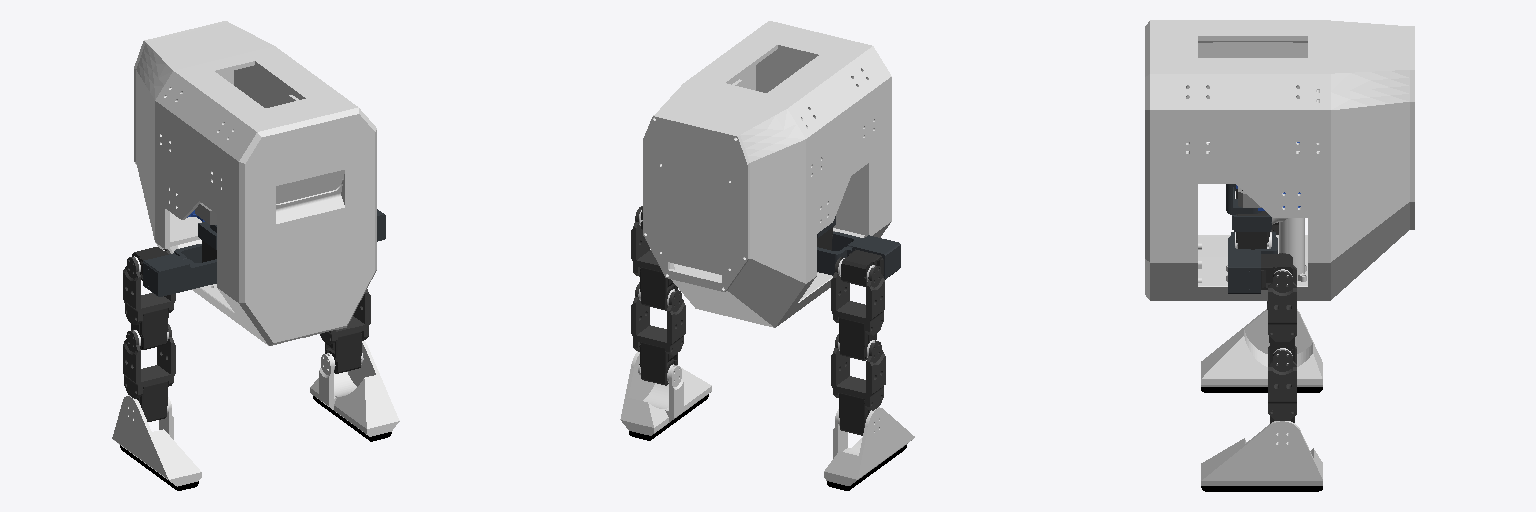
--- Render facts (derived) ---
The picture shows the robot from 3 angles, left to right: view 1: azimuth 30°, elevation 25°; view 2: azimuth 150°, elevation 25°; view 3: azimuth 270°, elevation 25°; orthographic projection.
Robot: my-robot — 11 links, 10 joints (10 revolute); root link bottom_frame; default pose: all joints at 0.
Links seen in each view (by area): view 1: bottom_frame, cushion_left, cushion_right, servo_holder_2_right, servo_holder_4_2, servo_holder_4, servo_holder_4_4, part_1; view 2: bottom_frame, cushion_left, cushion_right, servo_holder_4_4, servo_holder_4, servo_holder_4_2, servo_holder_2_right, servo_holder_4_3; view 3: bottom_frame, cushion_left, cushion_right, servo_holder_2_left, servo_holder_4_3, servo_holder_4_4, part_1_2.
Boxes of the visible links, x1=… form: bottom_frame: x1=134, y1=21, x2=376, y2=345; cushion_left: x1=310, y1=341, x2=399, y2=441; cushion_right: x1=112, y1=395, x2=201, y2=490; servo_holder_2_right: x1=132, y1=244, x2=216, y2=296; servo_holder_4_2: x1=123, y1=324, x2=175, y2=421; servo_holder_4: x1=123, y1=249, x2=175, y2=349; servo_holder_4_4: x1=320, y1=289, x2=370, y2=373; part_1: x1=198, y1=221, x2=216, y2=262; bottom_frame: x1=643, y1=21, x2=891, y2=327; cushion_left: x1=620, y1=351, x2=711, y2=440; cushion_right: x1=824, y1=407, x2=914, y2=490; servo_holder_4_4: x1=631, y1=282, x2=685, y2=385; servo_holder_4: x1=831, y1=257, x2=884, y2=360; servo_holder_4_2: x1=831, y1=334, x2=885, y2=435; servo_holder_2_right: x1=817, y1=232, x2=900, y2=286; servo_holder_4_3: x1=631, y1=206, x2=677, y2=310; bottom_frame: x1=1145, y1=20, x2=1414, y2=300; cushion_left: x1=1201, y1=421, x2=1322, y2=491; cushion_right: x1=1201, y1=309, x2=1322, y2=392; servo_holder_2_left: x1=1228, y1=232, x2=1292, y2=293; servo_holder_4_3: x1=1268, y1=253, x2=1296, y2=363; servo_holder_4_4: x1=1268, y1=346, x2=1296, y2=442; part_1_2: x1=1226, y1=184, x2=1271, y2=249.
Bounding box of the posed robot: 0.2872 × 0.2657 × 0.4273 m (x, y, z).
92 mesh visuals loaded from 25 distinct referenced files (25 binary STL).

URDF robot description (my-robot):
<?xml version="1.0" ?>
<!-- Generated using onshape-to-robot -->
<!-- Onshape https://cad.onshape.com/documents/d45957d307d6fbeba266d572/w/bd9f549c3008356ba09feb92/e/3a20e3144e899f6462cf0d2d -->
<robot name="my-robot">
  <!-- Link bottom_frame -->
  <link name="bottom_frame">
    <inertial>
      <origin xyz="-4.22758e-05 0.031606 0.133755" rpy="0 0 0"/>
      <mass value="1.98264"/>
      <inertia ixx="0.0231085" ixy="-1.50349e-05" ixz="-6.98111e-06" iyy="0.0159689" iyz="2.79408e-05" izz="0.0181058"/>
    </inertial>
    <!-- Part back_middle_connector_panel -->
    <visual>
      <origin xyz="1.38778e-17 0.0155347 0.132536" rpy="0 -0 1.47801e-16"/>
      <geometry>
        <mesh filename="package://assets/back_middle_connector_panel.stl"/>
      </geometry>
      <material name="back_middle_connector_panel_material">
        <color rgba="0.917647 0.917647 0.917647 1"/>
      </material>
    </visual>
    <collision>
      <origin xyz="1.38778e-17 0.0155347 0.132536" rpy="0 -0 1.47801e-16"/>
      <geometry>
        <mesh filename="package://assets/back_middle_connector_panel.stl"/>
      </geometry>
    </collision>
    <!-- Part top_right_panel_2 -->
    <visual>
      <origin xyz="0 -0.0931549 0.132536" rpy="0 -0 0"/>
      <geometry>
        <mesh filename="package://assets/top_right_panel_2.stl"/>
      </geometry>
      <material name="top_right_panel_2_material">
        <color rgba="0.917647 0.917647 0.917647 1"/>
      </material>
    </visual>
    <collision>
      <origin xyz="0 -0.0931549 0.132536" rpy="0 -0 0"/>
      <geometry>
        <mesh filename="package://assets/top_right_panel_2.stl"/>
      </geometry>
    </collision>
    <!-- Part top_left_panel -->
    <visual>
      <origin xyz="-1.38778e-17 -0.0931549 0.132536" rpy="0 -0 0"/>
      <geometry>
        <mesh filename="package://assets/top_left_panel.stl"/>
      </geometry>
      <material name="top_left_panel_material">
        <color rgba="0.917647 0.917647 0.917647 1"/>
      </material>
    </visual>
    <collision>
      <origin xyz="-1.38778e-17 -0.0931549 0.132536" rpy="0 -0 0"/>
      <geometry>
        <mesh filename="package://assets/top_left_panel.stl"/>
      </geometry>
    </collision>
    <!-- Part servo_housing_connector -->
    <visual>
      <origin xyz="0.0505 0.0285376 0.124733" rpy="0 -0 0"/>
      <geometry>
        <mesh filename="package://assets/servo_housing_connector.stl"/>
      </geometry>
      <material name="servo_housing_connector_material">
        <color rgba="0.917647 0.917647 0.917647 1"/>
      </material>
    </visual>
    <collision>
      <origin xyz="0.0505 0.0285376 0.124733" rpy="0 -0 0"/>
      <geometry>
        <mesh filename="package://assets/servo_housing_connector.stl"/>
      </geometry>
    </collision>
    <!-- Part front_panel -->
    <visual>
      <origin xyz="-1.38778e-17 -0.0931549 0.132536" rpy="0 -0 0"/>
      <geometry>
        <mesh filename="package://assets/front_panel.stl"/>
      </geometry>
      <material name="front_panel_material">
        <color rgba="0.917647 0.917647 0.917647 1"/>
      </material>
    </visual>
    <collision>
      <origin xyz="-1.38778e-17 -0.0931549 0.132536" rpy="0 -0 0"/>
      <geometry>
        <mesh filename="package://assets/front_panel.stl"/>
      </geometry>
    </collision>
    <!-- Part top_servo_housing -->
    <visual>
      <origin xyz="-0.0505 0.0285376 0.124733" rpy="3.14159 -0 3.14159"/>
      <geometry>
        <mesh filename="package://assets/top_servo_housing.stl"/>
      </geometry>
      <material name="top_servo_housing_material">
        <color rgba="0.231373 0.380392 0.705882 1"/>
      </material>
    </visual>
    <collision>
      <origin xyz="-0.0505 0.0285376 0.124733" rpy="3.14159 -0 3.14159"/>
      <geometry>
        <mesh filename="package://assets/top_servo_housing.stl"/>
      </geometry>
    </collision>
    <!-- Part intelrealsense_d435_multibody -->
    <visual>
      <origin xyz="-5.56425e-18 -0.0955775 0.170421" rpy="1.8326 -0 0"/>
      <geometry>
        <mesh filename="package://assets/intelrealsense_d435_multibody.stl"/>
      </geometry>
      <material name="intelrealsense_d435_multibody_material">
        <color rgba="0.917647 0.917647 0.917647 1"/>
      </material>
    </visual>
    <collision>
      <origin xyz="-5.56425e-18 -0.0955775 0.170421" rpy="1.8326 -0 0"/>
      <geometry>
        <mesh filename="package://assets/intelrealsense_d435_multibody.stl"/>
      </geometry>
    </collision>
    <!-- Part servo_holder_left -->
    <visual>
      <origin xyz="-0.0505 0.0285376 0.124733" rpy="3.14159 -9.86076e-32 3.14159"/>
      <geometry>
        <mesh filename="package://assets/servo_holder_left.stl"/>
      </geometry>
      <material name="servo_holder_left_material">
        <color rgba="0.647059 0.647059 0.647059 1"/>
      </material>
    </visual>
    <collision>
      <origin xyz="-0.0505 0.0285376 0.124733" rpy="3.14159 -9.86076e-32 3.14159"/>
      <geometry>
        <mesh filename="package://assets/servo_holder_left.stl"/>
      </geometry>
    </collision>
    <!-- Part bottom_frame -->
    <visual>
      <origin xyz="0 0 0" rpy="0 -0 0"/>
      <geometry>
        <mesh filename="package://assets/bottom_frame.stl"/>
      </geometry>
      <material name="bottom_frame_material">
        <color rgba="0.917647 0.917647 0.917647 1"/>
      </material>
    </visual>
    <collision>
      <origin xyz="0 0 0" rpy="0 -0 0"/>
      <geometry>
        <mesh filename="package://assets/bottom_frame.stl"/>
      </geometry>
    </collision>
    <!-- Part servo_holder_right -->
    <visual>
      <origin xyz="-0.0505 0.0285376 0.124733" rpy="3.14159 -9.86076e-32 3.14159"/>
      <geometry>
        <mesh filename="package://assets/servo_holder_right.stl"/>
      </geometry>
      <material name="servo_holder_right_material">
        <color rgba="0.647059 0.647059 0.647059 1"/>
      </material>
    </visual>
    <collision>
      <origin xyz="-0.0505 0.0285376 0.124733" rpy="3.14159 -9.86076e-32 3.14159"/>
      <geometry>
        <mesh filename="package://assets/servo_holder_right.stl"/>
      </geometry>
    </collision>
    <!-- Part composant4 -->
    <visual>
      <origin xyz="0.0505 0.0162713 0.124733" rpy="3.14159 -0 -1.5708"/>
      <geometry>
        <mesh filename="package://assets/composant4.stl"/>
      </geometry>
      <material name="composant4_material">
        <color rgba="0.952941 0.796078 0.486275 1"/>
      </material>
    </visual>
    <collision>
      <origin xyz="0.0505 0.0162713 0.124733" rpy="3.14159 -0 -1.5708"/>
      <geometry>
        <mesh filename="package://assets/composant4.stl"/>
      </geometry>
    </collision>
    <!-- Part vis_à_tête_tronconique_jis_b_1111___m3_x_4___h_acier_inoxydable_a2_standard_v1 -->
    <visual>
      <origin xyz="0.0505 0.0162713 0.124733" rpy="3.14159 -0 -1.5708"/>
      <geometry>
        <mesh filename="package://assets/vis_à_tête_tronconique_jis_b_1111___m3_x_4___h_acier_inoxydable_a2_standard_v1.stl"/>
      </geometry>
      <material name="vis_à_tête_tronconique_jis_b_1111___m3_x_4___h_acier_inoxydable_a2_standard_v1_material">
        <color rgba="0.796078 0.796078 0.796078 1"/>
      </material>
    </visual>
    <collision>
      <origin xyz="0.0505 0.0162713 0.124733" rpy="3.14159 -0 -1.5708"/>
      <geometry>
        <mesh filename="package://assets/vis_à_tête_tronconique_jis_b_1111___m3_x_4___h_acier_inoxydable_a2_standard_v1.stl"/>
      </geometry>
    </collision>
    <!-- Part vis -->
    <visual>
      <origin xyz="0.0505 0.0162713 0.124733" rpy="3.14159 -0 -1.5708"/>
      <geometry>
        <mesh filename="package://assets/vis.stl"/>
      </geometry>
      <material name="vis_material">
        <color rgba="0.0980392 0.0980392 0.0980392 1"/>
      </material>
    </visual>
    <collision>
      <origin xyz="0.0505 0.0162713 0.124733" rpy="3.14159 -0 -1.5708"/>
      <geometry>
        <mesh filename="package://assets/vis.stl"/>
      </geometry>
    </collision>
    <!-- Part composant3 -->
    <visual>
      <origin xyz="0.0505 0.0162713 0.124733" rpy="3.14159 -0 -1.5708"/>
      <geometry>
        <mesh filename="package://assets/composant3.stl"/>
      </geometry>
      <material name="composant3_material">
        <color rgba="0.960784 0.960784 0.964706 1"/>
      </material>
    </visual>
    <collision>
      <origin xyz="0.0505 0.0162713 0.124733" rpy="3.14159 -0 -1.5708"/>
      <geometry>
        <mesh filename="package://assets/composant3.stl"/>
      </geometry>
    </collision>
    <!-- Part vis_1 -->
    <visual>
      <origin xyz="0.0505 0.0162713 0.124733" rpy="3.14159 -0 -1.5708"/>
      <geometry>
        <mesh filename="package://assets/vis_1.stl"/>
      </geometry>
      <material name="vis_1_material">
        <color rgba="0.0980392 0.0980392 0.0980392 1"/>
      </material>
    </visual>
    <collision>
      <origin xyz="0.0505 0.0162713 0.124733" rpy="3.14159 -0 -1.5708"/>
      <geometry>
        <mesh filename="package://assets/vis_1.stl"/>
      </geometry>
    </collision>
    <!-- Part composant2 -->
    <visual>
      <origin xyz="0.0505 0.0162713 0.124733" rpy="3.14159 -0 -1.5708"/>
      <geometry>
        <mesh filename="package://assets/composant2.stl"/>
      </geometry>
      <material name="composant2_material">
        <color rgba="0.960784 0.960784 0.964706 1"/>
      </material>
    </visual>
    <collision>
      <origin xyz="0.0505 0.0162713 0.124733" rpy="3.14159 -0 -1.5708"/>
      <geometry>
        <mesh filename="package://assets/composant2.stl"/>
      </geometry>
    </collision>
    <!-- Part servo_motor_sts3215_v10 -->
    <visual>
      <origin xyz="0.0505 0.0162713 0.124733" rpy="3.14159 -0 -1.5708"/>
      <geometry>
        <mesh filename="package://assets/servo_motor_sts3215_v10.stl"/>
      </geometry>
      <material name="servo_motor_sts3215_v10_material">
        <color rgba="0.247059 0.247059 0.247059 1"/>
      </material>
    </visual>
    <collision>
      <origin xyz="0.0505 0.0162713 0.124733" rpy="3.14159 -0 -1.5708"/>
      <geometry>
        <mesh filename="package://assets/servo_motor_sts3215_v10.stl"/>
      </geometry>
    </collision>
    <!-- Part composant4_2 -->
    <visual>
      <origin xyz="-0.0505 0.0162713 0.124733" rpy="3.14159 -0 -1.5708"/>
      <geometry>
        <mesh filename="package://assets/composant4.stl"/>
      </geometry>
      <material name="composant4_2_material">
        <color rgba="0.952941 0.796078 0.486275 1"/>
      </material>
    </visual>
    <collision>
      <origin xyz="-0.0505 0.0162713 0.124733" rpy="3.14159 -0 -1.5708"/>
      <geometry>
        <mesh filename="package://assets/composant4.stl"/>
      </geometry>
    </collision>
    <!-- Part vis_à_tête_tronconique_jis_b_1111___m3_x_4___h_acier_inoxydable_a2_standard_v1_2 -->
    <visual>
      <origin xyz="-0.0505 0.0162713 0.124733" rpy="3.14159 -0 -1.5708"/>
      <geometry>
        <mesh filename="package://assets/vis_à_tête_tronconique_jis_b_1111___m3_x_4___h_acier_inoxydable_a2_standard_v1.stl"/>
      </geometry>
      <material name="vis_à_tête_tronconique_jis_b_1111___m3_x_4___h_acier_inoxydable_a2_standard_v1_2_material">
        <color rgba="0.796078 0.796078 0.796078 1"/>
      </material>
    </visual>
    <collision>
      <origin xyz="-0.0505 0.0162713 0.124733" rpy="3.14159 -0 -1.5708"/>
      <geometry>
        <mesh filename="package://assets/vis_à_tête_tronconique_jis_b_1111___m3_x_4___h_acier_inoxydable_a2_standard_v1.stl"/>
      </geometry>
    </collision>
    <!-- Part vis_2 -->
    <visual>
      <origin xyz="-0.0505 0.0162713 0.124733" rpy="3.14159 -0 -1.5708"/>
      <geometry>
        <mesh filename="package://assets/vis.stl"/>
      </geometry>
      <material name="vis_2_material">
        <color rgba="0.0980392 0.0980392 0.0980392 1"/>
      </material>
    </visual>
    <collision>
      <origin xyz="-0.0505 0.0162713 0.124733" rpy="3.14159 -0 -1.5708"/>
      <geometry>
        <mesh filename="package://assets/vis.stl"/>
      </geometry>
    </collision>
    <!-- Part composant3_2 -->
    <visual>
      <origin xyz="-0.0505 0.0162713 0.124733" rpy="3.14159 -0 -1.5708"/>
      <geometry>
        <mesh filename="package://assets/composant3.stl"/>
      </geometry>
      <material name="composant3_2_material">
        <color rgba="0.960784 0.960784 0.964706 1"/>
      </material>
    </visual>
    <collision>
      <origin xyz="-0.0505 0.0162713 0.124733" rpy="3.14159 -0 -1.5708"/>
      <geometry>
        <mesh filename="package://assets/composant3.stl"/>
      </geometry>
    </collision>
    <!-- Part vis_1_2 -->
    <visual>
      <origin xyz="-0.0505 0.0162713 0.124733" rpy="3.14159 -0 -1.5708"/>
      <geometry>
        <mesh filename="package://assets/vis_1.stl"/>
      </geometry>
      <material name="vis_1_2_material">
        <color rgba="0.0980392 0.0980392 0.0980392 1"/>
      </material>
    </visual>
    <collision>
      <origin xyz="-0.0505 0.0162713 0.124733" rpy="3.14159 -0 -1.5708"/>
      <geometry>
        <mesh filename="package://assets/vis_1.stl"/>
      </geometry>
    </collision>
    <!-- Part composant2_2 -->
    <visual>
      <origin xyz="-0.0505 0.0162713 0.124733" rpy="3.14159 -0 -1.5708"/>
      <geometry>
        <mesh filename="package://assets/composant2.stl"/>
      </geometry>
      <material name="composant2_2_material">
        <color rgba="0.960784 0.960784 0.964706 1"/>
      </material>
    </visual>
    <collision>
      <origin xyz="-0.0505 0.0162713 0.124733" rpy="3.14159 -0 -1.5708"/>
      <geometry>
        <mesh filename="package://assets/composant2.stl"/>
      </geometry>
    </collision>
    <!-- Part servo_motor_sts3215_v10_2 -->
    <visual>
      <origin xyz="-0.0505 0.0162713 0.124733" rpy="3.14159 -0 -1.5708"/>
      <geometry>
        <mesh filename="package://assets/servo_motor_sts3215_v10.stl"/>
      </geometry>
      <material name="servo_motor_sts3215_v10_2_material">
        <color rgba="0.247059 0.247059 0.247059 1"/>
      </material>
    </visual>
    <collision>
      <origin xyz="-0.0505 0.0162713 0.124733" rpy="3.14159 -0 -1.5708"/>
      <geometry>
        <mesh filename="package://assets/servo_motor_sts3215_v10.stl"/>
      </geometry>
    </collision>
  </link>
  <!-- Link part_1 -->
  <link name="part_1">
    <inertial>
      <origin xyz="0.00346141 -1.8868e-08 0.0544996" rpy="0 0 0"/>
      <mass value="0.0633736"/>
      <inertia ixx="4.16786e-05" ixy="1.75025e-11" ixz="9.10103e-06" iyy="4.826e-05" iyz="-7.87076e-12" izz="1.32807e-05"/>
    </inertial>
    <!-- Part part_1 -->
    <visual>
      <origin xyz="4.33681e-19 0 0" rpy="3.14159 3.26186e-36 -4.9299e-32"/>
      <geometry>
        <mesh filename="package://assets/part_1.stl"/>
      </geometry>
      <material name="part_1_material">
        <color rgba="0.262745 0.282353 0.301961 1"/>
      </material>
    </visual>
    <collision>
      <origin xyz="4.33681e-19 0 0" rpy="3.14159 3.26186e-36 -4.9299e-32"/>
      <geometry>
        <mesh filename="package://assets/part_1.stl"/>
      </geometry>
    </collision>
    <!-- Part composant4_3 -->
    <visual>
      <origin xyz="4.33681e-18 6.93889e-18 0.0684" rpy="-1.88738e-15 -1.5708 0"/>
      <geometry>
        <mesh filename="package://assets/composant4.stl"/>
      </geometry>
      <material name="composant4_3_material">
        <color rgba="0.952941 0.796078 0.486275 1"/>
      </material>
    </visual>
    <collision>
      <origin xyz="4.33681e-18 6.93889e-18 0.0684" rpy="-1.88738e-15 -1.5708 0"/>
      <geometry>
        <mesh filename="package://assets/composant4.stl"/>
      </geometry>
    </collision>
    <!-- Part vis_à_tête_tronconique_jis_b_1111___m3_x_4___h_acier_inoxydable_a2_standard_v1_3 -->
    <visual>
      <origin xyz="4.33681e-18 6.93889e-18 0.0684" rpy="-1.88738e-15 -1.5708 0"/>
      <geometry>
        <mesh filename="package://assets/vis_à_tête_tronconique_jis_b_1111___m3_x_4___h_acier_inoxydable_a2_standard_v1.stl"/>
      </geometry>
      <material name="vis_à_tête_tronconique_jis_b_1111___m3_x_4___h_acier_inoxydable_a2_standard_v1_3_material">
        <color rgba="0.796078 0.796078 0.796078 1"/>
      </material>
    </visual>
    <collision>
      <origin xyz="4.33681e-18 6.93889e-18 0.0684" rpy="-1.88738e-15 -1.5708 0"/>
      <geometry>
        <mesh filename="package://assets/vis_à_tête_tronconique_jis_b_1111___m3_x_4___h_acier_inoxydable_a2_standard_v1.stl"/>
      </geometry>
    </collision>
    <!-- Part vis_3 -->
    <visual>
      <origin xyz="4.33681e-18 6.93889e-18 0.0684" rpy="-1.88738e-15 -1.5708 0"/>
      <geometry>
        <mesh filename="package://assets/vis.stl"/>
      </geometry>
      <material name="vis_3_material">
        <color rgba="0.0980392 0.0980392 0.0980392 1"/>
      </material>
    </visual>
    <collision>
      <origin xyz="4.33681e-18 6.93889e-18 0.0684" rpy="-1.88738e-15 -1.5708 0"/>
      <geometry>
        <mesh filename="package://assets/vis.stl"/>
      </geometry>
    </collision>
    <!-- Part composant3_3 -->
    <visual>
      <origin xyz="4.33681e-18 6.93889e-18 0.0684" rpy="-1.88738e-15 -1.5708 0"/>
      <geometry>
        <mesh filename="package://assets/composant3.stl"/>
      </geometry>
      <material name="composant3_3_material">
        <color rgba="0.960784 0.960784 0.964706 1"/>
      </material>
    </visual>
    <collision>
      <origin xyz="4.33681e-18 6.93889e-18 0.0684" rpy="-1.88738e-15 -1.5708 0"/>
      <geometry>
        <mesh filename="package://assets/composant3.stl"/>
      </geometry>
    </collision>
    <!-- Part vis_1_3 -->
    <visual>
      <origin xyz="4.33681e-18 6.93889e-18 0.0684" rpy="-1.88738e-15 -1.5708 0"/>
      <geometry>
        <mesh filename="package://assets/vis_1.stl"/>
      </geometry>
      <material name="vis_1_3_material">
        <color rgba="0.0980392 0.0980392 0.0980392 1"/>
      </material>
    </visual>
    <collision>
      <origin xyz="4.33681e-18 6.93889e-18 0.0684" rpy="-1.88738e-15 -1.5708 0"/>
      <geometry>
        <mesh filename="package://assets/vis_1.stl"/>
      </geometry>
    </collision>
    <!-- Part composant2_3 -->
    <visual>
      <origin xyz="4.33681e-18 6.93889e-18 0.0684" rpy="-1.88738e-15 -1.5708 0"/>
      <geometry>
        <mesh filename="package://assets/composant2.stl"/>
      </geometry>
      <material name="composant2_3_material">
        <color rgba="0.960784 0.960784 0.964706 1"/>
      </material>
    </visual>
    <collision>
      <origin xyz="4.33681e-18 6.93889e-18 0.0684" rpy="-1.88738e-15 -1.5708 0"/>
      <geometry>
        <mesh filename="package://assets/composant2.stl"/>
      </geometry>
    </collision>
    <!-- Part servo_motor_sts3215_v10_3 -->
    <visual>
      <origin xyz="4.33681e-18 6.93889e-18 0.0684" rpy="-1.88738e-15 -1.5708 0"/>
      <geometry>
        <mesh filename="package://assets/servo_motor_sts3215_v10.stl"/>
      </geometry>
      <material name="servo_motor_sts3215_v10_3_material">
        <color rgba="0.247059 0.247059 0.247059 1"/>
      </material>
    </visual>
    <collision>
      <origin xyz="4.33681e-18 6.93889e-18 0.0684" rpy="-1.88738e-15 -1.5708 0"/>
      <geometry>
        <mesh filename="package://assets/servo_motor_sts3215_v10.stl"/>
      </geometry>
    </collision>
  </link>
  <!-- Link servo_holder_2_right -->
  <link name="servo_holder_2_right">
    <inertial>
      <origin xyz="-0.0581183 0.000675022 0.0200448" rpy="0 0 0"/>
      <mass value="0.102324"/>
      <inertia ixx="4.10674e-05" ixy="-1.76403e-06" ixz="2.82895e-06" iyy="7.91302e-05" iyz="2.86127e-07" izz="5.08509e-05"/>
    </inertial>
    <!-- Part servo_holder_2_right -->
    <visual>
      <origin xyz="0.100812 -0.0182 0.0234473" rpy="1.5708 -0.104008 4.67811e-32"/>
      <geometry>
        <mesh filename="package://assets/servo_holder_2_right.stl"/>
      </geometry>
      <material name="servo_holder_2_right_material">
        <color rgba="0.262745 0.282353 0.301961 1"/>
      </material>
    </visual>
    <collision>
      <origin xyz="0.100812 -0.0182 0.0234473" rpy="1.5708 -0.104008 4.67811e-32"/>
      <geometry>
        <mesh filename="package://assets/servo_holder_2_right.stl"/>
      </geometry>
    </collision>
    <!-- Part composant4_4 -->
    <visual>
      <origin xyz="-0.0689457 1.59595e-16 0.0349006" rpy="3.14159 -1.5708 0"/>
      <geometry>
        <mesh filename="package://assets/composant4.stl"/>
      </geometry>
      <material name="composant4_4_material">
        <color rgba="0.952941 0.796078 0.486275 1"/>
      </material>
    </visual>
    <collision>
      <origin xyz="-0.0689457 1.59595e-16 0.0349006" rpy="3.14159 -1.5708 0"/>
      <geometry>
        <mesh filename="package://assets/composant4.stl"/>
      </geometry>
    </collision>
    <!-- Part vis_à_tête_tronconique_jis_b_1111___m3_x_4___h_acier_inoxydable_a2_standard_v1_4 -->
    <visual>
      <origin xyz="-0.0689457 1.59595e-16 0.0349006" rpy="3.14159 -1.5708 0"/>
      <geometry>
        <mesh filename="package://assets/vis_à_tête_tronconique_jis_b_1111___m3_x_4___h_acier_inoxydable_a2_standard_v1.stl"/>
      </geometry>
      <material name="vis_à_tête_tronconique_jis_b_1111___m3_x_4___h_acier_inoxydable_a2_standard_v1_4_material">
        <color rgba="0.796078 0.796078 0.796078 1"/>
      </material>
    </visual>
    <collision>
      <origin xyz="-0.0689457 1.59595e-16 0.0349006" rpy="3.14159 -1.5708 0"/>
      <geometry>
        <mesh filename="package://assets/vis_à_tête_tronconique_jis_b_1111___m3_x_4___h_acier_inoxydable_a2_standard_v1.stl"/>
      </geometry>
    </collision>
    <!-- Part vis_4 -->
    <visual>
      <origin xyz="-0.0689457 1.59595e-16 0.0349006" rpy="3.14159 -1.5708 0"/>
      <geometry>
        <mesh filename="package://assets/vis.stl"/>
      </geometry>
      <material name="vis_4_material">
        <color rgba="0.0980392 0.0980392 0.0980392 1"/>
      </material>
    </visual>
    <collision>
      <origin xyz="-0.0689457 1.59595e-16 0.0349006" rpy="3.14159 -1.5708 0"/>
      <geometry>
        <mesh filename="package://assets/vis.stl"/>
      </geometry>
    </collision>
    <!-- Part composant3_4 -->
    <visual>
      <origin xyz="-0.0689457 1.59595e-16 0.0349006" rpy="3.14159 -1.5708 0"/>
      <geometry>
        <mesh filename="package://assets/composant3.stl"/>
      </geometry>
      <material name="composant3_4_material">
        <color rgba="0.960784 0.960784 0.964706 1"/>
      </material>
    </visual>
    <collision>
      <origin xyz="-0.0689457 1.59595e-16 0.0349006" rpy="3.14159 -1.5708 0"/>
      <geometry>
        <mesh filename="package://assets/composant3.stl"/>
      </geometry>
    </collision>
    <!-- Part vis_1_4 -->
    <visual>
      <origin xyz="-0.0689457 1.59595e-16 0.0349006" rpy="3.14159 -1.5708 0"/>
      <geometry>
        <mesh filename="package://assets/vis_1.stl"/>
      </geometry>
      <material name="vis_1_4_material">
        <color rgba="0.0980392 0.0980392 0.0980392 1"/>
      </material>
    </visual>
    <collision>
      <origin xyz="-0.0689457 1.59595e-16 0.0349006" rpy="3.14159 -1.5708 0"/>
      <geometry>
        <mesh filename="package://assets/vis_1.stl"/>
      </geometry>
    </collision>
    <!-- Part composant2_4 -->
    <visual>
      <origin xyz="-0.0689457 1.59595e-16 0.0349006" rpy="3.14159 -1.5708 0"/>
      <geometry>
        <mesh filename="package://assets/composant2.stl"/>
      </geometry>
      <material name="composant2_4_material">
        <color rgba="0.960784 0.960784 0.964706 1"/>
      </material>
    </visual>
    <collision>
      <origin xyz="-0.0689457 1.59595e-16 0.0349006" rpy="3.14159 -1.5708 0"/>
      <geometry>
        <mesh filename="package://assets/composant2.stl"/>
      </geometry>
    </collision>
    <!-- Part servo_motor_sts3215_v10_4 -->
    <visual>
      <origin xyz="-0.0689457 1.59595e-16 0.0349006" rpy="3.14159 -1.5708 0"/>
      <geometry>
        <mesh filename="package://assets/servo_motor_sts3215_v10.stl"/>
      </geometry>
      <material name="servo_motor_sts3215_v10_4_material">
        <color rgba="0.247059 0.247059 0.247059 1"/>
      </material>
    </visual>
    <collision>
      <origin xyz="-0.0689457 1.59595e-16 0.0349006" rpy="3.14159 -1.5708 0"/>
      <geometry>
        <mesh filename="package://assets/servo_motor_sts3215_v10.stl"/>
      </geometry>
    </collision>
  </link>
  <!-- Link servo_holder_4 -->
  <link name="servo_holder_4">
    <inertial>
      <origin xyz="0.0559692 1.42113e-08 0.0177128" rpy="0 0 0"/>
      <mass value="0.0728745"/>
      <inertia ixx="1.98198e-05" ixy="-1.12362e-11" ixz="4.90018e-07" iyy="5.95513e-05" iyz="-1.0947e-11" izz="4.798e-05"/>
    </inertial>
    <!-- Part servo_holder_4 -->
    <visual>
      <origin xyz="6.93889e-18 0 0.0364" rpy="9.06201e-32 3.86891e-32 -2.93199e-31"/>
      <geometry>
        <mesh filename="package://assets/servo_holder_4.stl"/>
      </geometry>
      <material name="servo_holder_4_material">
        <color rgba="0.301961 0.301961 0.301961 1"/>
      </material>
    </visual>
    <collision>
      <origin xyz="6.93889e-18 0 0.0364" rpy="9.06201e-32 3.86891e-32 -2.93199e-31"/>
      <geometry>
        <mesh filename="package://assets/servo_holder_4.stl"/>
      </geometry>
    </collision>
    <!-- Part composant4_5 -->
    <visual>
      <origin xyz="0.0732925 6.93889e-18 0.0185244" rpy="3.14159 5.65575e-31 -7.7777e-31"/>
      <geometry>
        <mesh filename="package://assets/composant4.stl"/>
      </geometry>
      <material name="composant4_5_material">
        <color rgba="0.952941 0.796078 0.486275 1"/>
      </material>
    </visual>
    <collision>
      <origin xyz="0.0732925 6.93889e-18 0.0185244" rpy="3.14159 5.65575e-31 -7.7777e-31"/>
      <geometry>
        <mesh filename="package://assets/composant4.stl"/>
      </geometry>
    </collision>
    <!-- Part vis_à_tête_tronconique_jis_b_1111___m3_x_4___h_acier_inoxydable_a2_standard_v1_5 -->
    <visual>
      <origin xyz="0.0732925 6.93889e-18 0.0185244" rpy="3.14159 5.65575e-31 -7.7777e-31"/>
      <geometry>
        <mesh filename="package://assets/vis_à_tête_tronconique_jis_b_1111___m3_x_4___h_acier_inoxydable_a2_standard_v1.stl"/>
      </geometry>
      <material name="vis_à_tête_tronconique_jis_b_1111___m3_x_4___h_acier_inoxydable_a2_standard_v1_5_material">
        <color rgba="0.796078 0.796078 0.796078 1"/>
      </material>
    </visual>
    <collision>
      <origin xyz="0.0732925 6.93889e-18 0.0185244" rpy="3.14159 5.65575e-31 -7.7777e-31"/>
      <geometry>
        <mesh filename="package://assets/vis_à_tête_tronconique_jis_b_1111___m3_x_4___h_acier_inoxydable_a2_standard_v1.stl"/>
      </geometry>
    </collision>
    <!-- Part vis_5 -->
    <visual>
      <origin xyz="0.0732925 6.93889e-18 0.0185244" rpy="3.14159 5.65575e-31 -7.7777e-31"/>
      <geometry>
        <mesh filename="package://assets/vis.stl"/>
      </geometry>
      <material name="vis_5_material">
        <color rgba="0.0980392 0.0980392 0.0980392 1"/>
      </material>
    </visual>
    <collision>
      <origin xyz="0.0732925 6.93889e-18 0.0185244" rpy="3.14159 5.65575e-31 -7.7777e-31"/>
      <geometry>
        <mesh filename="package://assets/vis.stl"/>
      </geometry>
    </collision>
    <!-- Part composant3_5 -->
    <visual>
      <origin xyz="0.0732925 6.93889e-18 0.0185244" rpy="3.14159 5.65575e-31 -7.7777e-31"/>
      <geometry>
        <mesh filename="package://assets/composant3.stl"/>
      </geometry>
      <material name="composant3_5_material">
        <color rgba="0.960784 0.960784 0.964706 1"/>
      </material>
    </visual>
    <collision>
      <origin xyz="0.0732925 6.93889e-18 0.0185244" rpy="3.14159 5.65575e-31 -7.7777e-31"/>
      <geometry>
        <mesh filename="package://assets/composant3.stl"/>
      </geometry>
    </collision>
    <!-- Part vis_1_5 -->
    <visual>
      <origin xyz="0.0732925 6.93889e-18 0.0185244" rpy="3.14159 5.65575e-31 -7.7777e-31"/>
      <geometry>
        <mesh filename="package://assets/vis_1.stl"/>
      </geometry>
      <material name="vis_1_5_material">
        <color rgba="0.0980392 0.0980392 0.0980392 1"/>
      </material>
    </visual>
    <collision>
      <origin xyz="0.0732925 6.93889e-18 0.0185244" rpy="3.14159 5.65575e-31 -7.7777e-31"/>
      <geometry>
        <mesh filename="package://assets/vis_1.stl"/>
      </geometry>
    </collision>
    <!-- Part composant2_5 -->
    <visual>
      <origin xyz="0.0732925 6.93889e-18 0.0185244" rpy="3.14159 5.65575e-31 -7.7777e-31"/>
      <geometry>
        <mesh filename="package://assets/composant2.stl"/>
      </geometry>
      <material name="composant2_5_material">
        <color rgba="0.960784 0.960784 0.964706 1"/>
      </material>
    </visual>
    <collision>
      <origin xyz="0.0732925 6.93889e-18 0.0185244" rpy="3.14159 5.65575e-31 -7.7777e-31"/>
      <geometry>
        <mesh filename="package://assets/composant2.stl"/>
      </geometry>
    </collision>
    <!-- Part servo_motor_sts3215_v10_5 -->
    <visual>
      <origin xyz="0.0732925 6.93889e-18 0.0185244" rpy="3.14159 5.65575e-31 -7.7777e-31"/>
      <geometry>
        <mesh filename="package://assets/servo_motor_sts3215_v10.stl"/>
      </geometry>
      <material name="servo_motor_sts3215_v10_5_material">
        <color rgba="0.247059 0.247059 0.247059 1"/>
      </material>
    </visual>
    <collision>
      <origin xyz="0.0732925 6.93889e-18 0.0185244" rpy="3.14159 5.65575e-31 -7.7777e-31"/>
      <geometry>
        <mesh filename="package://assets/servo_motor_sts3215_v10.stl"/>
      </geometry>
    </collision>
  </link>
  <!-- Link servo_holder_4_2 -->
  <link name="servo_holder_4_2">
    <inertial>
      <origin xyz="0.0559692 1.42113e-08 0.0177128" rpy="0 0 0"/>
      <mass value="0.0728745"/>
      <inertia ixx="1.98198e-05" ixy="-1.12362e-11" ixz="4.90018e-07" iyy="5.95513e-05" iyz="-1.0947e-11" izz="4.798e-05"/>
    </inertial>
    <!-- Part servo_holder_4_2 -->
    <visual>
      <origin xyz="3.46945e-18 0 0.0364" rpy="5.56809e-32 5.24827e-34 -8.67175e-33"/>
      <geometry>
        <mesh filename="package://assets/servo_holder_4.stl"/>
      </geometry>
      <material name="servo_holder_4_2_material">
        <color rgba="0.301961 0.301961 0.301961 1"/>
      </material>
    </visual>
    <collision>
      <origin xyz="3.46945e-18 0 0.0364" rpy="5.56809e-32 5.24827e-34 -8.67175e-33"/>
      <geometry>
        <mesh filename="package://assets/servo_holder_4.stl"/>
      </geometry>
    </collision>
    <!-- Part composant4_6 -->
    <visual>
      <origin xyz="0.0732925 6.93889e-18 0.0185244" rpy="3.14159 1.73983e-31 -1.10908e-32"/>
      <geometry>
        <mesh filename="package://assets/composant4.stl"/>
      </geometry>
      <material name="composant4_6_material">
        <color rgba="0.952941 0.796078 0.486275 1"/>
      </material>
    </visual>
    <collision>
      <origin xyz="0.0732925 6.93889e-18 0.0185244" rpy="3.14159 1.73983e-31 -1.10908e-32"/>
      <geometry>
        <mesh filename="package://assets/composant4.stl"/>
      </geometry>
    </collision>
    <!-- Part vis_à_tête_tronconique_jis_b_1111___m3_x_4___h_acier_inoxydable_a2_standard_v1_6 -->
    <visual>
      <origin xyz="0.0732925 6.93889e-18 0.0185244" rpy="3.14159 1.73983e-31 -1.10908e-32"/>
      <geometry>
        <mesh filename="package://assets/vis_à_tête_tronconique_jis_b_1111___m3_x_4___h_acier_inoxydable_a2_standard_v1.stl"/>
      </geometry>
      <material name="vis_à_tête_tronconique_jis_b_1111___m3_x_4___h_acier_inoxydable_a2_standard_v1_6_material">
        <color rgba="0.796078 0.796078 0.796078 1"/>
      </material>
    </visual>
    <collision>
      <origin xyz="0.0732925 6.93889e-18 0.0185244" rpy="3.14159 1.73983e-31 -1.10908e-32"/>
      <geometry>
        <mesh filename="package://assets/vis_à_tête_tronconique_jis_b_1111___m3_x_4___h_acier_inoxydable_a2_standard_v1.stl"/>
      </geometry>
    </collision>
    <!-- Part vis_6 -->
    <visual>
      <origin xyz="0.0732925 6.93889e-18 0.0185244" rpy="3.14159 1.73983e-31 -1.10908e-32"/>
      <geometry>
        <mesh filename="package://assets/vis.stl"/>
      </geometry>
      <material name="vis_6_material">
        <color rgba="0.0980392 0.0980392 0.0980392 1"/>
      </material>
    </visual>
    <collision>
      <origin xyz="0.0732925 6.93889e-18 0.0185244" rpy="3.14159 1.73983e-31 -1.10908e-32"/>
      <geometry>
        <mesh filename="package://assets/vis.stl"/>
      </geometry>
    </collision>
    <!-- Part composant3_6 -->
    <visual>
      <origin xyz="0.0732925 6.93889e-18 0.0185244" rpy="3.14159 1.73983e-31 -1.10908e-32"/>
      <geometry>
        <mesh filename="package://assets/composant3.stl"/>
      </geometry>
      <material name="composant3_6_material">
        <color rgba="0.960784 0.960784 0.964706 1"/>
      </material>
    </visual>
    <collision>
      <origin xyz="0.0732925 6.93889e-18 0.0185244" rpy="3.14159 1.73983e-31 -1.10908e-32"/>
      <geometry>
        <mesh filename="package://assets/composant3.stl"/>
      </geometry>
    </collision>
    <!-- Part vis_1_6 -->
    <visual>
      <origin xyz="0.0732925 6.93889e-18 0.0185244" rpy="3.14159 1.73983e-31 -1.10908e-32"/>
      <geometry>
        <mesh filename="package://assets/vis_1.stl"/>
      </geometry>
      <material name="vis_1_6_material">
        <color rgba="0.0980392 0.0980392 0.0980392 1"/>
      </material>
    </visual>
    <collision>
      <origin xyz="0.0732925 6.93889e-18 0.0185244" rpy="3.14159 1.73983e-31 -1.10908e-32"/>
      <geometry>
        <mesh filename="package://assets/vis_1.stl"/>
      </geometry>
    </collision>
    <!-- Part composant2_6 -->
    <visual>
      <origin xyz="0.0732925 6.93889e-18 0.0185244" rpy="3.14159 1.73983e-31 -1.10908e-32"/>
      <geometry>
        <mesh filename="package://assets/composant2.stl"/>
      </geometry>
      <material name="composant2_6_material">
        <color rgba="0.960784 0.960784 0.964706 1"/>
      </material>
    </visual>
    <collision>
      <origin xyz="0.0732925 6.93889e-18 0.0185244" rpy="3.14159 1.73983e-31 -1.10908e-32"/>
      <geometry>
        <mesh filename="package://assets/composant2.stl"/>
      </geometry>
    </collision>
    <!-- Part servo_motor_sts3215_v10_6 -->
    <visual>
      <origin xyz="0.0732925 6.93889e-18 0.0185244" rpy="3.14159 1.73983e-31 -1.10908e-32"/>
      <geometry>
        <mesh filename="package://assets/servo_motor_sts3215_v10.stl"/>
      </geometry>
      <material name="servo_motor_sts3215_v10_6_material">
        <color rgba="0.247059 0.247059 0.247059 1"/>
      </material>
    </visual>
    <collision>
      <origin xyz="0.0732925 6.93889e-18 0.0185244" rpy="3.14159 1.73983e-31 -1.10908e-32"/>
      <geometry>
        <mesh filename="package://assets/servo_motor_sts3215_v10.stl"/>
      </geometry>
    </collision>
  </link>
  <!-- Link cushion_right -->
  <link name="cushion_right">
    <inertial>
      <origin xyz="-0.0194706 -0.0420367 0.0158895" rpy="0 0 0"/>
      <mass value="0.191143"/>
      <inertia ixx="6.61931e-05" ixy="-3.74292e-06" ixz="-1.39333e-06" iyy="0.000224241" iyz="9.58456e-06" izz="0.00023826"/>
    </inertial>
    <!-- Part cushion_right -->
    <visual>
      <origin xyz="0 -0.0516163 0.132131" rpy="-1.5708 -1.5708 0"/>
      <geometry>
        <mesh filename="package://assets/cushion_right.stl"/>
      </geometry>
      <material name="cushion_right_material">
        <color rgba="0 0 0 1"/>
      </material>
    </visual>
    <collision>
      <origin xyz="0 -0.0516163 0.132131" rpy="-1.5708 -1.5708 0"/>
      <geometry>
        <mesh filename="package://assets/cushion_right.stl"/>
      </geometry>
    </collision>
    <!-- Part foot_right -->
    <visual>
      <origin xyz="0 -0.0516163 0.132131" rpy="-1.5708 -1.5708 0"/>
      <geometry>
        <mesh filename="package://assets/foot_right.stl"/>
      </geometry>
      <material name="foot_right_material">
        <color rgba="0.917647 0.917647 0.917647 1"/>
      </material>
    </visual>
    <collision>
      <origin xyz="0 -0.0516163 0.132131" rpy="-1.5708 -1.5708 0"/>
      <geometry>
        <mesh filename="package://assets/foot_right.stl"/>
      </geometry>
    </collision>
  </link>
  <!-- Joint from servo_holder_4_2 to cushion_right -->
  <joint name="Leg1_E" type="revolute">
    <origin xyz="0.0857926 1.21493e-05 -0.0001756" rpy="1.73983e-31 2.22308e-29 1.5708"/>
    <parent link="servo_holder_4_2"/>
    <child link="cushion_right"/>
    <axis xyz="0 0 1"/>
    <limit effort="2.686" velocity="9.01" lower="-3.141592653589793" upper="3.141592653589793"/>
  </joint>
  <!-- Joint from servo_holder_4 to servo_holder_4_2 -->
  <joint name="Leg1_D" type="revolute">
    <origin xyz="0.0857925 1.52656e-16 -0.0001756" rpy="-3.33067e-16 -6.66134e-16 2.55513e-30"/>
    <parent link="servo_holder_4"/>
    <child link="servo_holder_4_2"/>
    <axis xyz="0 0 1"/>
    <limit effort="2.686" velocity="9.01" lower="-3.141592653589793" upper="3.141592653589793"/>
  </joint>
  <!-- Joint from servo_holder_2_right to servo_holder_4 -->
  <joint name="Leg1_C" type="revolute">
    <origin xyz="-0.0866457 1.8735e-16 0.0474006" rpy="1.5708 -9.37968e-16 1.5708"/>
    <parent link="servo_holder_2_right"/>
    <child link="servo_holder_4"/>
    <axis xyz="0 0 1"/>
    <limit effort="2.686" velocity="9.01" lower="-3.141592653589793" upper="3.141592653589793"/>
  </joint>
  <!-- Joint from part_1 to servo_holder_2_right -->
  <joint name="Leg1_B" type="revolute">
    <origin xyz="0.0183 -1.38778e-17 0.0809" rpy="1.5708 3.33067e-16 -1.5708"/>
    <parent link="part_1"/>
    <child link="servo_holder_2_right"/>
    <axis xyz="0 0 1"/>
    <limit effort="2.686" velocity="9.01" lower="-3.141592653589793" upper="3.141592653589793"/>
  </joint>
  <!-- Joint from bottom_frame to part_1 -->
  <joint name="Leg1_A" type="revolute">
    <origin xyz="-0.0505 0.0037713 0.142433" rpy="-3.14159 1.58527e-19 -1.5708"/>
    <parent link="bottom_frame"/>
    <child link="part_1"/>
    <axis xyz="0 0 1"/>
    <limit effort="2.686" velocity="9.01" lower="-3.141592653589793" upper="3.141592653589793"/>
  </joint>
  <!-- Link part_1_2 -->
  <link name="part_1_2">
    <inertial>
      <origin xyz="0.00346141 -1.8868e-08 0.0528536" rpy="0 0 0"/>
      <mass value="0.0633736"/>
      <inertia ixx="3.87727e-05" ixy="1.75025e-11" ixz="8.67219e-06" iyy="4.53541e-05" iyz="-7.80749e-12" izz="1.32807e-05"/>
    </inertial>
    <!-- Part part_1_2 -->
    <visual>
      <origin xyz="4.33681e-19 0 0" rpy="3.14159 3.26186e-36 -4.9299e-32"/>
      <geometry>
        <mesh filename="package://assets/part_1.stl"/>
      </geometry>
      <material name="part_1_2_material">
        <color rgba="0.262745 0.282353 0.301961 1"/>
      </material>
    </visual>
    <collision>
      <origin xyz="4.33681e-19 0 0" rpy="3.14159 3.26186e-36 -4.9299e-32"/>
      <geometry>
        <mesh filename="package://assets/part_1.stl"/>
      </geometry>
    </collision>
    <!-- Part composant4_7 -->
    <visual>
      <origin xyz="4.33681e-18 6.93889e-18 0.06575" rpy="-1.88738e-15 -1.5708 0"/>
      <geometry>
        <mesh filename="package://assets/composant4.stl"/>
      </geometry>
      <material name="composant4_7_material">
        <color rgba="0.952941 0.796078 0.486275 1"/>
      </material>
    </visual>
    <collision>
      <origin xyz="4.33681e-18 6.93889e-18 0.06575" rpy="-1.88738e-15 -1.5708 0"/>
      <geometry>
        <mesh filename="package://assets/composant4.stl"/>
      </geometry>
    </collision>
    <!-- Part vis_à_tête_tronconique_jis_b_1111___m3_x_4___h_acier_inoxydable_a2_standard_v1_7 -->
    <visual>
      <origin xyz="4.33681e-18 6.93889e-18 0.06575" rpy="-1.88738e-15 -1.5708 0"/>
      <geometry>
        <mesh filename="package://assets/vis_à_tête_tronconique_jis_b_1111___m3_x_4___h_acier_inoxydable_a2_standard_v1.stl"/>
      </geometry>
      <material name="vis_à_tête_tronconique_jis_b_1111___m3_x_4___h_acier_inoxydable_a2_standard_v1_7_material">
        <color rgba="0.796078 0.796078 0.796078 1"/>
      </material>
    </visual>
    <collision>
      <origin xyz="4.33681e-18 6.93889e-18 0.06575" rpy="-1.88738e-15 -1.5708 0"/>
      <geometry>
        <mesh filename="package://assets/vis_à_tête_tronconique_jis_b_1111___m3_x_4___h_acier_inoxydable_a2_standard_v1.stl"/>
      </geometry>
    </collision>
    <!-- Part vis_7 -->
    <visual>
      <origin xyz="4.33681e-18 6.93889e-18 0.06575" rpy="-1.88738e-15 -1.5708 0"/>
      <geometry>
        <mesh filename="package://assets/vis.stl"/>
      </geometry>
      <material name="vis_7_material">
        <color rgba="0.0980392 0.0980392 0.0980392 1"/>
      </material>
    </visual>
    <collision>
      <origin xyz="4.33681e-18 6.93889e-18 0.06575" rpy="-1.88738e-15 -1.5708 0"/>
      <geometry>
        <mesh filename="package://assets/vis.stl"/>
      </geometry>
    </collision>
    <!-- Part composant3_7 -->
    <visual>
      <origin xyz="4.33681e-18 6.93889e-18 0.06575" rpy="-1.88738e-15 -1.5708 0"/>
      <geometry>
        <mesh filename="package://assets/composant3.stl"/>
      </geometry>
      <material name="composant3_7_material">
        <color rgba="0.960784 0.960784 0.964706 1"/>
      </material>
    </visual>
    <collision>
      <origin xyz="4.33681e-18 6.93889e-18 0.06575" rpy="-1.88738e-15 -1.5708 0"/>
      <geometry>
        <mesh filename="package://assets/composant3.stl"/>
      </geometry>
    </collision>
    <!-- Part vis_1_7 -->
    <visual>
      <origin xyz="4.33681e-18 6.93889e-18 0.06575" rpy="-1.88738e-15 -1.5708 0"/>
      <geometry>
        <mesh filename="package://assets/vis_1.stl"/>
      </geometry>
      <material name="vis_1_7_material">
        <color rgba="0.0980392 0.0980392 0.0980392 1"/>
      </material>
    </visual>
    <collision>
      <origin xyz="4.33681e-18 6.93889e-18 0.06575" rpy="-1.88738e-15 -1.5708 0"/>
      <geometry>
        <mesh filename="package://assets/vis_1.stl"/>
      </geometry>
    </collision>
    <!-- Part composant2_7 -->
    <visual>
      <origin xyz="4.33681e-18 6.93889e-18 0.06575" rpy="-1.88738e-15 -1.5708 0"/>
      <geometry>
        <mesh filename="package://assets/composant2.stl"/>
      </geometry>
      <material name="composant2_7_material">
        <color rgba="0.960784 0.960784 0.964706 1"/>
      </material>
    </visual>
    <collision>
      <origin xyz="4.33681e-18 6.93889e-18 0.06575" rpy="-1.88738e-15 -1.5708 0"/>
      <geometry>
        <mesh filename="package://assets/composant2.stl"/>
      </geometry>
    </collision>
    <!-- Part servo_motor_sts3215_v10_7 -->
    <visual>
      <origin xyz="4.33681e-18 6.93889e-18 0.06575" rpy="-1.88738e-15 -1.5708 0"/>
      <geometry>
        <mesh filename="package://assets/servo_motor_sts3215_v10.stl"/>
      </geometry>
      <material name="servo_motor_sts3215_v10_7_material">
        <color rgba="0.247059 0.247059 0.247059 1"/>
      </material>
    </visual>
    <collision>
      <origin xyz="4.33681e-18 6.93889e-18 0.06575" rpy="-1.88738e-15 -1.5708 0"/>
      <geometry>
        <mesh filename="package://assets/servo_motor_sts3215_v10.stl"/>
      </geometry>
    </collision>
  </link>
  <!-- Link servo_holder_2_left -->
  <link name="servo_holder_2_left">
    <inertial>
      <origin xyz="0.0581183 0.000675008 0.0200448" rpy="0 0 0"/>
      <mass value="0.102324"/>
      <inertia ixx="4.10674e-05" ixy="1.76407e-06" ixz="-2.82895e-06" iyy="7.91302e-05" iyz="2.86171e-07" izz="5.08509e-05"/>
    </inertial>
    <!-- Part servo_holder_2_left -->
    <visual>
      <origin xyz="-6.93889e-18 -0.0182 0.0182" rpy="1.5708 8.50471e-32 1.34453e-32"/>
      <geometry>
        <mesh filename="package://assets/servo_holder_2_left.stl"/>
      </geometry>
      <material name="servo_holder_2_left_material">
        <color rgba="0.262745 0.282353 0.301961 1"/>
      </material>
    </visual>
    <collision>
      <origin xyz="-6.93889e-18 -0.0182 0.0182" rpy="1.5708 8.50471e-32 1.34453e-32"/>
      <geometry>
        <mesh filename="package://assets/servo_holder_2_left.stl"/>
      </geometry>
    </collision>
    <!-- Part composant4_8 -->
    <visual>
      <origin xyz="0.0689457 1.38778e-17 0.0349006" rpy="-3.33067e-16 -1.5708 0"/>
      <geometry>
        <mesh filename="package://assets/composant4.stl"/>
      </geometry>
      <material name="composant4_8_material">
        <color rgba="0.952941 0.796078 0.486275 1"/>
      </material>
    </visual>
    <collision>
      <origin xyz="0.0689457 1.38778e-17 0.0349006" rpy="-3.33067e-16 -1.5708 0"/>
      <geometry>
        <mesh filename="package://assets/composant4.stl"/>
      </geometry>
    </collision>
    <!-- Part vis_à_tête_tronconique_jis_b_1111___m3_x_4___h_acier_inoxydable_a2_standard_v1_8 -->
    <visual>
      <origin xyz="0.0689457 1.38778e-17 0.0349006" rpy="-3.33067e-16 -1.5708 0"/>
      <geometry>
        <mesh filename="package://assets/vis_à_tête_tronconique_jis_b_1111___m3_x_4___h_acier_inoxydable_a2_standard_v1.stl"/>
      </geometry>
      <material name="vis_à_tête_tronconique_jis_b_1111___m3_x_4___h_acier_inoxydable_a2_standard_v1_8_material">
        <color rgba="0.796078 0.796078 0.796078 1"/>
      </material>
    </visual>
    <collision>
      <origin xyz="0.0689457 1.38778e-17 0.0349006" rpy="-3.33067e-16 -1.5708 0"/>
      <geometry>
        <mesh filename="package://assets/vis_à_tête_tronconique_jis_b_1111___m3_x_4___h_acier_inoxydable_a2_standard_v1.stl"/>
      </geometry>
    </collision>
    <!-- Part vis_8 -->
    <visual>
      <origin xyz="0.0689457 1.38778e-17 0.0349006" rpy="-3.33067e-16 -1.5708 0"/>
      <geometry>
        <mesh filename="package://assets/vis.stl"/>
      </geometry>
      <material name="vis_8_material">
        <color rgba="0.0980392 0.0980392 0.0980392 1"/>
      </material>
    </visual>
    <collision>
      <origin xyz="0.0689457 1.38778e-17 0.0349006" rpy="-3.33067e-16 -1.5708 0"/>
      <geometry>
        <mesh filename="package://assets/vis.stl"/>
      </geometry>
    </collision>
    <!-- Part composant3_8 -->
    <visual>
      <origin xyz="0.0689457 1.38778e-17 0.0349006" rpy="-3.33067e-16 -1.5708 0"/>
      <geometry>
        <mesh filename="package://assets/composant3.stl"/>
      </geometry>
      <material name="composant3_8_material">
        <color rgba="0.960784 0.960784 0.964706 1"/>
      </material>
    </visual>
    <collision>
      <origin xyz="0.0689457 1.38778e-17 0.0349006" rpy="-3.33067e-16 -1.5708 0"/>
      <geometry>
        <mesh filename="package://assets/composant3.stl"/>
      </geometry>
    </collision>
    <!-- Part vis_1_8 -->
    <visual>
      <origin xyz="0.0689457 1.38778e-17 0.0349006" rpy="-3.33067e-16 -1.5708 0"/>
      <geometry>
        <mesh filename="package://assets/vis_1.stl"/>
      </geometry>
      <material name="vis_1_8_material">
        <color rgba="0.0980392 0.0980392 0.0980392 1"/>
      </material>
    </visual>
    <collision>
      <origin xyz="0.0689457 1.38778e-17 0.0349006" rpy="-3.33067e-16 -1.5708 0"/>
      <geometry>
        <mesh filename="package://assets/vis_1.stl"/>
      </geometry>
    </collision>
    <!-- Part composant2_8 -->
    <visual>
      <origin xyz="0.0689457 1.38778e-17 0.0349006" rpy="-3.33067e-16 -1.5708 0"/>
      <geometry>
        <mesh filename="package://assets/composant2.stl"/>
      </geometry>
      <material name="composant2_8_material">
        <color rgba="0.960784 0.960784 0.964706 1"/>
      </material>
    </visual>
    <collision>
      <origin xyz="0.0689457 1.38778e-17 0.0349006" rpy="-3.33067e-16 -1.5708 0"/>
      <geometry>
        <mesh filename="package://assets/composant2.stl"/>
      </geometry>
    </collision>
    <!-- Part servo_motor_sts3215_v10_8 -->
    <visual>
      <origin xyz="0.0689457 1.38778e-17 0.0349006" rpy="-3.33067e-16 -1.5708 0"/>
      <geometry>
        <mesh filename="package://assets/servo_motor_sts3215_v10.stl"/>
      </geometry>
      <material name="servo_motor_sts3215_v10_8_material">
        <color rgba="0.247059 0.247059 0.247059 1"/>
      </material>
    </visual>
    <collision>
      <origin xyz="0.0689457 1.38778e-17 0.0349006" rpy="-3.33067e-16 -1.5708 0"/>
      <geometry>
        <mesh filename="package://assets/servo_motor_sts3215_v10.stl"/>
      </geometry>
    </collision>
  </link>
  <!-- Link servo_holder_4_3 -->
  <link name="servo_holder_4_3">
    <inertial>
      <origin xyz="0.0559692 1.42113e-08 0.0177128" rpy="0 0 0"/>
      <mass value="0.0728745"/>
      <inertia ixx="1.98198e-05" ixy="-1.12362e-11" ixz="4.90018e-07" iyy="5.95513e-05" iyz="-1.0947e-11" izz="4.798e-05"/>
    </inertial>
    <!-- Part servo_holder_4_3 -->
    <visual>
      <origin xyz="0 0 0.0364" rpy="-9.75507e-34 5.20495e-43 -1.09448e-33"/>
      <geometry>
        <mesh filename="package://assets/servo_holder_4.stl"/>
      </geometry>
      <material name="servo_holder_4_3_material">
        <color rgba="0.301961 0.301961 0.301961 1"/>
      </material>
    </visual>
    <collision>
      <origin xyz="0 0 0.0364" rpy="-9.75507e-34 5.20495e-43 -1.09448e-33"/>
      <geometry>
        <mesh filename="package://assets/servo_holder_4.stl"/>
      </geometry>
    </collision>
    <!-- Part composant4_9 -->
    <visual>
      <origin xyz="0.0732925 0 0.0185244" rpy="3.14159 5.20495e-43 -1.09448e-33"/>
      <geometry>
        <mesh filename="package://assets/composant4.stl"/>
      </geometry>
      <material name="composant4_9_material">
        <color rgba="0.952941 0.796078 0.486275 1"/>
      </material>
    </visual>
    <collision>
      <origin xyz="0.0732925 0 0.0185244" rpy="3.14159 5.20495e-43 -1.09448e-33"/>
      <geometry>
        <mesh filename="package://assets/composant4.stl"/>
      </geometry>
    </collision>
    <!-- Part vis_à_tête_tronconique_jis_b_1111___m3_x_4___h_acier_inoxydable_a2_standard_v1_9 -->
    <visual>
      <origin xyz="0.0732925 0 0.0185244" rpy="3.14159 5.20495e-43 -1.09448e-33"/>
      <geometry>
        <mesh filename="package://assets/vis_à_tête_tronconique_jis_b_1111___m3_x_4___h_acier_inoxydable_a2_standard_v1.stl"/>
      </geometry>
      <material name="vis_à_tête_tronconique_jis_b_1111___m3_x_4___h_acier_inoxydable_a2_standard_v1_9_material">
        <color rgba="0.796078 0.796078 0.796078 1"/>
      </material>
    </visual>
    <collision>
      <origin xyz="0.0732925 0 0.0185244" rpy="3.14159 5.20495e-43 -1.09448e-33"/>
      <geometry>
        <mesh filename="package://assets/vis_à_tête_tronconique_jis_b_1111___m3_x_4___h_acier_inoxydable_a2_standard_v1.stl"/>
      </geometry>
    </collision>
    <!-- Part vis_9 -->
    <visual>
      <origin xyz="0.0732925 0 0.0185244" rpy="3.14159 5.20495e-43 -1.09448e-33"/>
      <geometry>
        <mesh filename="package://assets/vis.stl"/>
      </geometry>
      <material name="vis_9_material">
        <color rgba="0.0980392 0.0980392 0.0980392 1"/>
      </material>
    </visual>
    <collision>
      <origin xyz="0.0732925 0 0.0185244" rpy="3.14159 5.20495e-43 -1.09448e-33"/>
      <geometry>
        <mesh filename="package://assets/vis.stl"/>
      </geometry>
    </collision>
    <!-- Part composant3_9 -->
    <visual>
      <origin xyz="0.0732925 0 0.0185244" rpy="3.14159 5.20495e-43 -1.09448e-33"/>
      <geometry>
        <mesh filename="package://assets/composant3.stl"/>
      </geometry>
      <material name="composant3_9_material">
        <color rgba="0.960784 0.960784 0.964706 1"/>
      </material>
    </visual>
    <collision>
      <origin xyz="0.0732925 0 0.0185244" rpy="3.14159 5.20495e-43 -1.09448e-33"/>
      <geometry>
        <mesh filename="package://assets/composant3.stl"/>
      </geometry>
    </collision>
    <!-- Part vis_1_9 -->
    <visual>
      <origin xyz="0.0732925 0 0.0185244" rpy="3.14159 5.20495e-43 -1.09448e-33"/>
      <geometry>
        <mesh filename="package://assets/vis_1.stl"/>
      </geometry>
      <material name="vis_1_9_material">
        <color rgba="0.0980392 0.0980392 0.0980392 1"/>
      </material>
    </visual>
    <collision>
      <origin xyz="0.0732925 0 0.0185244" rpy="3.14159 5.20495e-43 -1.09448e-33"/>
      <geometry>
        <mesh filename="package://assets/vis_1.stl"/>
      </geometry>
    </collision>
    <!-- Part composant2_9 -->
    <visual>
      <origin xyz="0.0732925 0 0.0185244" rpy="3.14159 5.20495e-43 -1.09448e-33"/>
      <geometry>
        <mesh filename="package://assets/composant2.stl"/>
      </geometry>
      <material name="composant2_9_material">
        <color rgba="0.960784 0.960784 0.964706 1"/>
      </material>
    </visual>
    <collision>
      <origin xyz="0.0732925 0 0.0185244" rpy="3.14159 5.20495e-43 -1.09448e-33"/>
      <geometry>
        <mesh filename="package://assets/composant2.stl"/>
      </geometry>
    </collision>
    <!-- Part servo_motor_sts3215_v10_9 -->
    <visual>
      <origin xyz="0.0732925 0 0.0185244" rpy="3.14159 5.20495e-43 -1.09448e-33"/>
      <geometry>
        <mesh filename="package://assets/servo_motor_sts3215_v10.stl"/>
      </geometry>
      <material name="servo_motor_sts3215_v10_9_material">
        <color rgba="0.247059 0.247059 0.247059 1"/>
      </material>
    </visual>
    <collision>
      <origin xyz="0.0732925 0 0.0185244" rpy="3.14159 5.20495e-43 -1.09448e-33"/>
      <geometry>
        <mesh filename="package://assets/servo_motor_sts3215_v10.stl"/>
      </geometry>
    </collision>
  </link>
  <!-- Link servo_holder_4_4 -->
  <link name="servo_holder_4_4">
    <inertial>
      <origin xyz="0.0559692 1.42113e-08 0.0177128" rpy="0 0 0"/>
      <mass value="0.0728745"/>
      <inertia ixx="1.98198e-05" ixy="-1.12362e-11" ixz="4.90018e-07" iyy="5.95513e-05" iyz="-1.0947e-11" izz="4.798e-05"/>
    </inertial>
    <!-- Part servo_holder_4_4 -->
    <visual>
      <origin xyz="0 0 0.0364" rpy="-9.75507e-34 5.20495e-43 -1.09448e-33"/>
      <geometry>
        <mesh filename="package://assets/servo_holder_4.stl"/>
      </geometry>
      <material name="servo_holder_4_4_material">
        <color rgba="0.301961 0.301961 0.301961 1"/>
      </material>
    </visual>
    <collision>
      <origin xyz="0 0 0.0364" rpy="-9.75507e-34 5.20495e-43 -1.09448e-33"/>
      <geometry>
        <mesh filename="package://assets/servo_holder_4.stl"/>
      </geometry>
    </collision>
    <!-- Part composant4_10 -->
    <visual>
      <origin xyz="0.0732925 1.38778e-17 0.0185244" rpy="3.14159 -3.99854e-29 3.33067e-16"/>
      <geometry>
        <mesh filename="package://assets/composant4.stl"/>
      </geometry>
      <material name="composant4_10_material">
        <color rgba="0.952941 0.796078 0.486275 1"/>
      </material>
    </visual>
    <collision>
      <origin xyz="0.0732925 1.38778e-17 0.0185244" rpy="3.14159 -3.99854e-29 3.33067e-16"/>
      <geometry>
        <mesh filename="package://assets/composant4.stl"/>
      </geometry>
    </collision>
    <!-- Part vis_à_tête_tronconique_jis_b_1111___m3_x_4___h_acier_inoxydable_a2_standard_v1_10 -->
    <visual>
      <origin xyz="0.0732925 1.38778e-17 0.0185244" rpy="3.14159 -3.99854e-29 3.33067e-16"/>
      <geometry>
        <mesh filename="package://assets/vis_à_tête_tronconique_jis_b_1111___m3_x_4___h_acier_inoxydable_a2_standard_v1.stl"/>
      </geometry>
      <material name="vis_à_tête_tronconique_jis_b_1111___m3_x_4___h_acier_inoxydable_a2_standard_v1_10_material">
        <color rgba="0.796078 0.796078 0.796078 1"/>
      </material>
    </visual>
    <collision>
      <origin xyz="0.0732925 1.38778e-17 0.0185244" rpy="3.14159 -3.99854e-29 3.33067e-16"/>
      <geometry>
        <mesh filename="package://assets/vis_à_tête_tronconique_jis_b_1111___m3_x_4___h_acier_inoxydable_a2_standard_v1.stl"/>
      </geometry>
    </collision>
    <!-- Part vis_10 -->
    <visual>
      <origin xyz="0.0732925 1.38778e-17 0.0185244" rpy="3.14159 -3.99854e-29 3.33067e-16"/>
      <geometry>
        <mesh filename="package://assets/vis.stl"/>
      </geometry>
      <material name="vis_10_material">
        <color rgba="0.0980392 0.0980392 0.0980392 1"/>
      </material>
    </visual>
    <collision>
      <origin xyz="0.0732925 1.38778e-17 0.0185244" rpy="3.14159 -3.99854e-29 3.33067e-16"/>
      <geometry>
        <mesh filename="package://assets/vis.stl"/>
      </geometry>
    </collision>
    <!-- Part composant3_10 -->
    <visual>
      <origin xyz="0.0732925 1.38778e-17 0.0185244" rpy="3.14159 -3.99854e-29 3.33067e-16"/>
      <geometry>
        <mesh filename="package://assets/composant3.stl"/>
      </geometry>
      <material name="composant3_10_material">
        <color rgba="0.960784 0.960784 0.964706 1"/>
      </material>
    </visual>
    <collision>
      <origin xyz="0.0732925 1.38778e-17 0.0185244" rpy="3.14159 -3.99854e-29 3.33067e-16"/>
      <geometry>
        <mesh filename="package://assets/composant3.stl"/>
      </geometry>
    </collision>
    <!-- Part vis_1_10 -->
    <visual>
      <origin xyz="0.0732925 1.38778e-17 0.0185244" rpy="3.14159 -3.99854e-29 3.33067e-16"/>
      <geometry>
        <mesh filename="package://assets/vis_1.stl"/>
      </geometry>
      <material name="vis_1_10_material">
        <color rgba="0.0980392 0.0980392 0.0980392 1"/>
      </material>
    </visual>
    <collision>
      <origin xyz="0.0732925 1.38778e-17 0.0185244" rpy="3.14159 -3.99854e-29 3.33067e-16"/>
      <geometry>
        <mesh filename="package://assets/vis_1.stl"/>
      </geometry>
    </collision>
    <!-- Part composant2_10 -->
    <visual>
      <origin xyz="0.0732925 1.38778e-17 0.0185244" rpy="3.14159 -3.99854e-29 3.33067e-16"/>
      <geometry>
        <mesh filename="package://assets/composant2.stl"/>
      </geometry>
      <material name="composant2_10_material">
        <color rgba="0.960784 0.960784 0.964706 1"/>
      </material>
    </visual>
    <collision>
      <origin xyz="0.0732925 1.38778e-17 0.0185244" rpy="3.14159 -3.99854e-29 3.33067e-16"/>
      <geometry>
        <mesh filename="package://assets/composant2.stl"/>
      </geometry>
    </collision>
    <!-- Part servo_motor_sts3215_v10_10 -->
    <visual>
      <origin xyz="0.0732925 1.38778e-17 0.0185244" rpy="3.14159 -3.99854e-29 3.33067e-16"/>
      <geometry>
        <mesh filename="package://assets/servo_motor_sts3215_v10.stl"/>
      </geometry>
      <material name="servo_motor_sts3215_v10_10_material">
        <color rgba="0.247059 0.247059 0.247059 1"/>
      </material>
    </visual>
    <collision>
      <origin xyz="0.0732925 1.38778e-17 0.0185244" rpy="3.14159 -3.99854e-29 3.33067e-16"/>
      <geometry>
        <mesh filename="package://assets/servo_motor_sts3215_v10.stl"/>
      </geometry>
    </collision>
  </link>
  <!-- Link cushion_left -->
  <link name="cushion_left">
    <inertial>
      <origin xyz="-0.0194706 0.0420367 0.0158895" rpy="0 0 0"/>
      <mass value="0.191143"/>
      <inertia ixx="6.6193e-05" ixy="3.74292e-06" ixz="-1.39334e-06" iyy="0.000224241" iyz="-9.58455e-06" izz="0.00023826"/>
    </inertial>
    <!-- Part foot_left -->
    <visual>
      <origin xyz="6.93889e-18 0.0516163 0.0390687" rpy="1.5708 1.5708 0"/>
      <geometry>
        <mesh filename="package://assets/foot_left.stl"/>
      </geometry>
      <material name="foot_left_material">
        <color rgba="0.917647 0.917647 0.917647 1"/>
      </material>
    </visual>
    <collision>
      <origin xyz="6.93889e-18 0.0516163 0.0390687" rpy="1.5708 1.5708 0"/>
      <geometry>
        <mesh filename="package://assets/foot_left.stl"/>
      </geometry>
    </collision>
    <!-- Part cushion_left -->
    <visual>
      <origin xyz="6.93889e-18 0.0516163 0.0390687" rpy="1.5708 1.5708 0"/>
      <geometry>
        <mesh filename="package://assets/cushion_left.stl"/>
      </geometry>
      <material name="cushion_left_material">
        <color rgba="0 0 0 1"/>
      </material>
    </visual>
    <collision>
      <origin xyz="6.93889e-18 0.0516163 0.0390687" rpy="1.5708 1.5708 0"/>
      <geometry>
        <mesh filename="package://assets/cushion_left.stl"/>
      </geometry>
    </collision>
  </link>
  <!-- Joint from servo_holder_4_4 to cushion_left -->
  <joint name="Leg2_E" type="revolute">
    <origin xyz="0.0857925 -7.63278e-17 -0.0001756" rpy="3.99854e-29 -2.62445e-31 -1.5708"/>
    <parent link="servo_holder_4_4"/>
    <child link="cushion_left"/>
    <axis xyz="0 0 1"/>
    <limit effort="2.686" velocity="9.01" lower="-3.141592653589793" upper="3.141592653589793"/>
  </joint>
  <!-- Joint from servo_holder_4_3 to servo_holder_4_4 -->
  <joint name="Leg2_D" type="revolute">
    <origin xyz="0.0857925 0 -0.0001756" rpy="-9.75507e-34 5.20495e-43 -1.09448e-33"/>
    <parent link="servo_holder_4_3"/>
    <child link="servo_holder_4_4"/>
    <axis xyz="0 0 1"/>
    <limit effort="2.686" velocity="9.01" lower="-3.141592653589793" upper="3.141592653589793"/>
  </joint>
  <!-- Joint from servo_holder_2_left to servo_holder_4_3 -->
  <joint name="Leg2_C" type="revolute">
    <origin xyz="0.0866457 2.77556e-17 0.0474006" rpy="-1.5708 6.12323e-17 1.5708"/>
    <parent link="servo_holder_2_left"/>
    <child link="servo_holder_4_3"/>
    <axis xyz="0 0 1"/>
    <limit effort="2.686" velocity="9.01" lower="-3.141592653589793" upper="3.141592653589793"/>
  </joint>
  <!-- Joint from part_1_2 to servo_holder_2_left -->
  <joint name="Leg2_B" type="revolute">
    <origin xyz="0.0177 -2.77556e-17 0.07825" rpy="1.5708 3.33067e-16 -1.5708"/>
    <parent link="part_1_2"/>
    <child link="servo_holder_2_left"/>
    <axis xyz="0 0 1"/>
    <limit effort="2.686" velocity="9.01" lower="-3.141592653589793" upper="3.141592653589793"/>
  </joint>
  <!-- Joint from bottom_frame to part_1_2 -->
  <joint name="Leg2_A" type="revolute">
    <origin xyz="0.0505 0.0037713 0.142433" rpy="-3.14159 1.58527e-19 -1.5708"/>
    <parent link="bottom_frame"/>
    <child link="part_1_2"/>
    <axis xyz="0 0 1"/>
    <limit effort="2.686" velocity="9.01" lower="-3.141592653589793" upper="3.141592653589793"/>
  </joint>
</robot>
